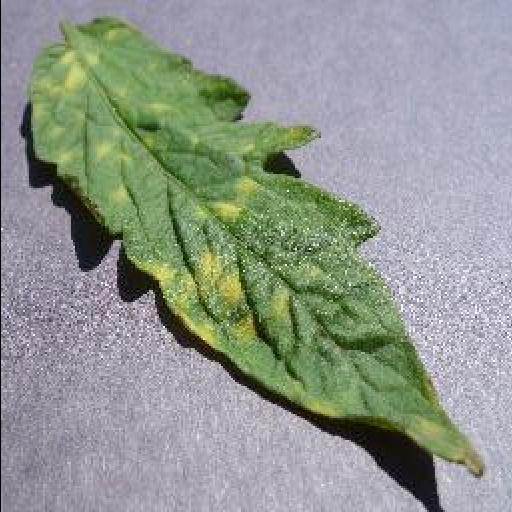disease_tomato: (30, 16, 484, 480)
